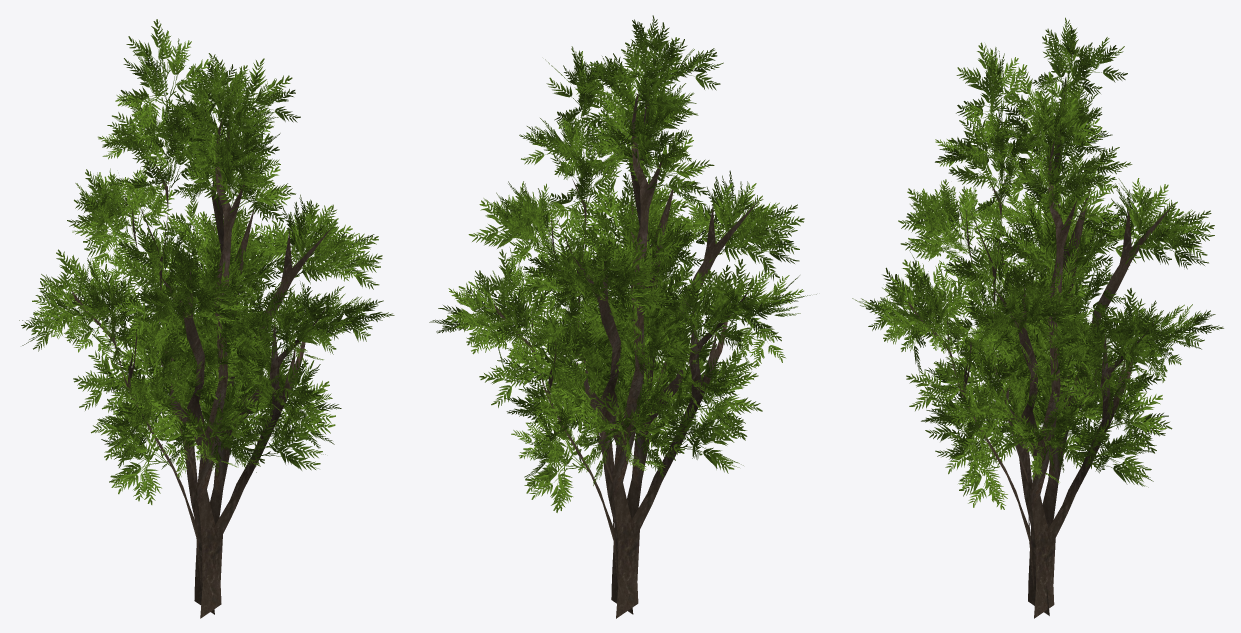
Rendered from tree.glb.
The picture shows the model from 3 angles, left to right: view 1: azimuth 30°, elevation 25°; view 2: azimuth 150°, elevation 25°; view 3: azimuth 270°, elevation 25°; orthographic projection. The views are drawn at different scales.
Visible parts, largest first — view 1: Leaves.001, Bark; view 2: Leaves.001, Bark; view 3: Leaves.001, Bark.
Part boxes in pixels (<box>): Leaves.001: <box>19,19,394,504</box>; Bark: <box>71,89,332,618</box>; Leaves.001: <box>429,15,816,512</box>; Bark: <box>493,77,758,618</box>; Leaves.001: <box>852,17,1223,509</box>; Bark: <box>908,77,1174,618</box>.
Size of the model in its own units: 1.76 by 2.91 by 1.72.
Materials: 2 (2 with a texture image).
